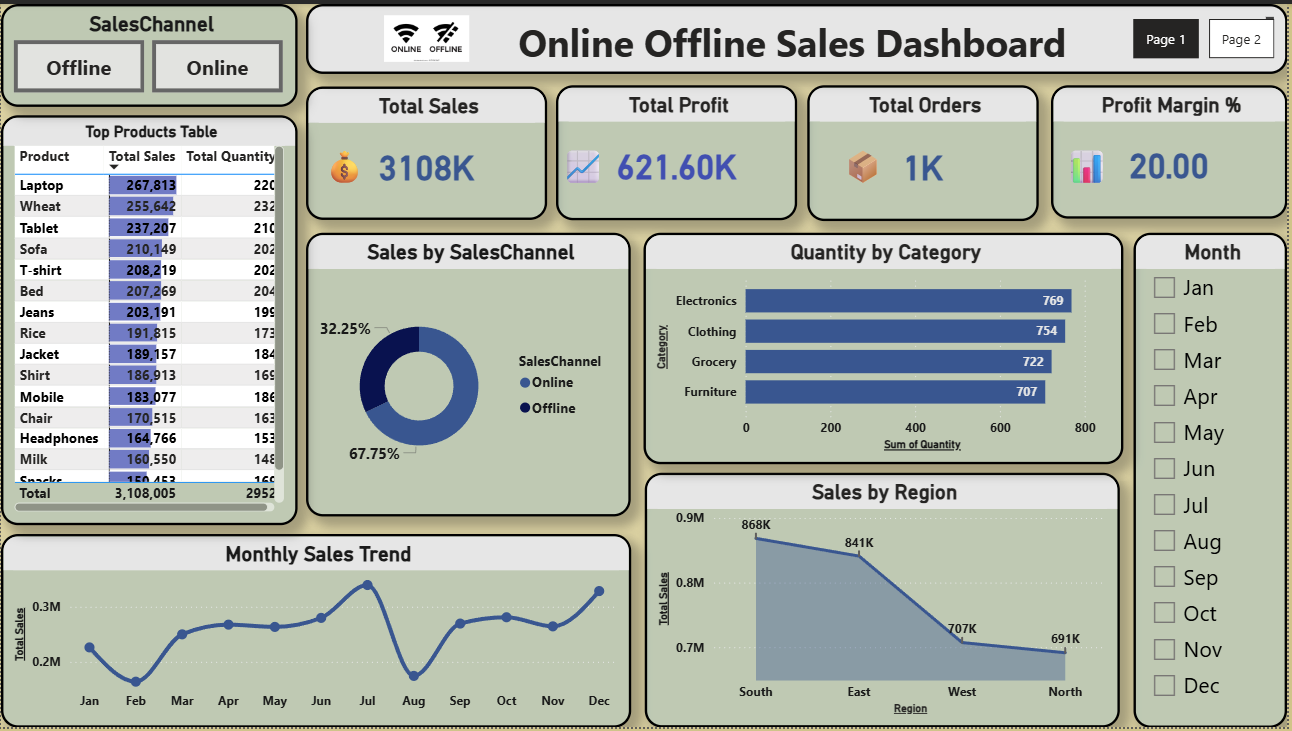

This screenshot's page, from the dashboard's own definition file:
{"tool":"powerbi","page":{"name":"Page 1","canvas":[1280,720],"ordinal":0},"visuals":[{"type":"card","title":"Total Sales","fields":{"Values":["Online_Offline_Sales.Total Sales"]},"box":[303.5,82.1,240.1,133.1],"z":0},{"type":"card","title":"Total Profit","fields":{"Values":["Online_Offline_Sales.Total Profit"]},"box":[552.3,80.9,240.1,134.3],"z":1000},{"type":"card","title":"Total Orders","fields":{"Values":["Online_Offline_Sales.Total orders"]},"box":[802.4,80.9,230.1,135.6],"z":2000},{"type":"card","title":"Profit Margin %","fields":{"Values":["Online_Offline_Sales.Profit Margin %"]},"box":[1044.9,80.9,235.1,133.1],"z":3000},{"type":"donutChart","title":" Sales by SalesChannel","fields":{"Category":["Online_Offline_Sales.SalesChannel"],"Y":["Online_Offline_Sales.Total Sales"]},"box":[303.5,227.6,323.4,282.4],"z":4000},{"type":"textbox","box":[303.5,0,976.5,69.7],"z":5000},{"type":"lineChart","title":"Monthly Sales Trend","fields":{"Category":["Online_Offline_Sales.Month"],"Y":["Online_Offline_Sales.Total Sales"]},"box":[0,527.4,627,192.8],"z":6000},{"type":"areaChart","title":"Sales by Region","fields":{"Category":["Online_Offline_Sales.Region"],"Y":["Online_Offline_Sales.Total Sales"]},"box":[640.6,466.5,472.7,253.8],"z":7000},{"type":"clusteredBarChart","title":"Quantity by Category","fields":{"Category":["Online_Offline_Sales.Category"],"Y":["Sum(Online_Offline_Sales.Quantity)"]},"box":[639.4,227.6,477.7,230.1],"z":8000},{"type":"tableEx","title":"Top Products Table","fields":{"Values":["Online_Offline_Sales.Product","Online_Offline_Sales.Total Sales","Online_Offline_Sales.Total Quantity"]},"box":[0,110.7,294.8,408],"z":9000},{"type":"advancedSlicerVisual","fields":{"Values":["Online_Offline_Sales.SalesChannel"]},"box":[0,0,294.8,102],"z":10000},{"type":"image","box":[373.2,11.2,100.8,46],"z":11000},{"type":"textbox","box":[314.7,134.3,58.5,59.7],"z":12000},{"type":"textbox","box":[552.3,134.3,58.5,59.7],"z":13000},{"type":"textbox","box":[831,134.3,58.5,59.7],"z":14000},{"type":"textbox","box":[1053.6,134.3,59.7,64.7],"z":15000},{"type":"pageNavigator","box":[1127,14.9,140.6,39.8],"z":16000},{"type":"slicer","title":"Month","fields":{"Values":["Online_Offline_Sales.Month"]},"box":[1127,227.6,153,492.6],"z":16001}]}

Visuals, with their boxes in screenshot pixels (x1, y1, x2, y2), scaled from the page's 1280x720 canvas onto the 1292x731 screenshot:
"Total Sales" card: <bbox>306, 83, 549, 218</bbox>
"Total Profit" card: <bbox>557, 82, 800, 218</bbox>
"Total Orders" card: <bbox>810, 82, 1042, 220</bbox>
"Profit Margin %" card: <bbox>1055, 82, 1291, 217</bbox>
" Sales by SalesChannel" donutChart: <bbox>306, 231, 633, 518</bbox>
textbox: <bbox>306, 0, 1291, 71</bbox>
"Monthly Sales Trend" lineChart: <bbox>0, 535, 633, 730</bbox>
"Sales by Region" areaChart: <bbox>647, 474, 1124, 730</bbox>
"Quantity by Category" clusteredBarChart: <bbox>645, 231, 1128, 465</bbox>
"Top Products Table" tableEx: <bbox>0, 112, 298, 527</bbox>
advancedSlicerVisual - Online_Offline_Sales.SalesChannel: <bbox>0, 0, 298, 104</bbox>
image: <bbox>377, 11, 478, 58</bbox>
textbox: <bbox>318, 136, 377, 197</bbox>
textbox: <bbox>557, 136, 617, 197</bbox>
textbox: <bbox>839, 136, 898, 197</bbox>
textbox: <bbox>1063, 136, 1124, 202</bbox>
pageNavigator: <bbox>1138, 15, 1279, 56</bbox>
"Month" slicer: <bbox>1138, 231, 1291, 730</bbox>
